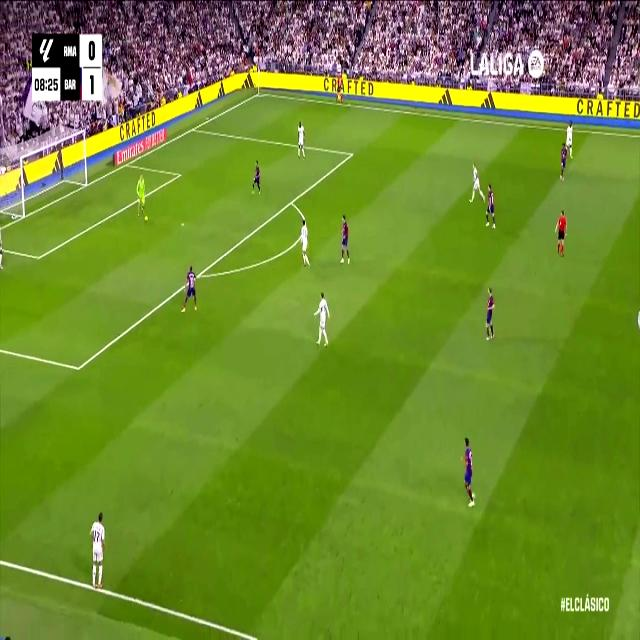bigarea_bottom_inner: (74, 356, 83, 379)
bigarea_top_inner: (348, 147, 354, 161)
bigarea_top_outter: (189, 120, 197, 134)
bottom_arc_area_intersection: (195, 265, 203, 283)
smallarea_bottom_inner: (34, 248, 43, 267)
smallarea_top_inner: (175, 167, 182, 181)
top_arc_area_intersection: (286, 193, 296, 210)
